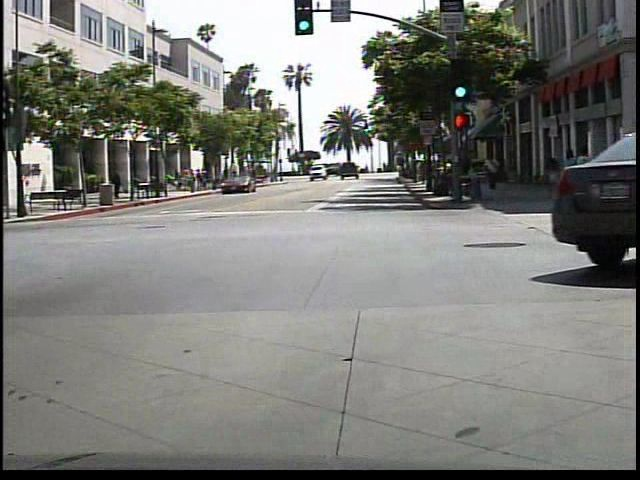person: (480, 150, 503, 195), (109, 163, 127, 203)
